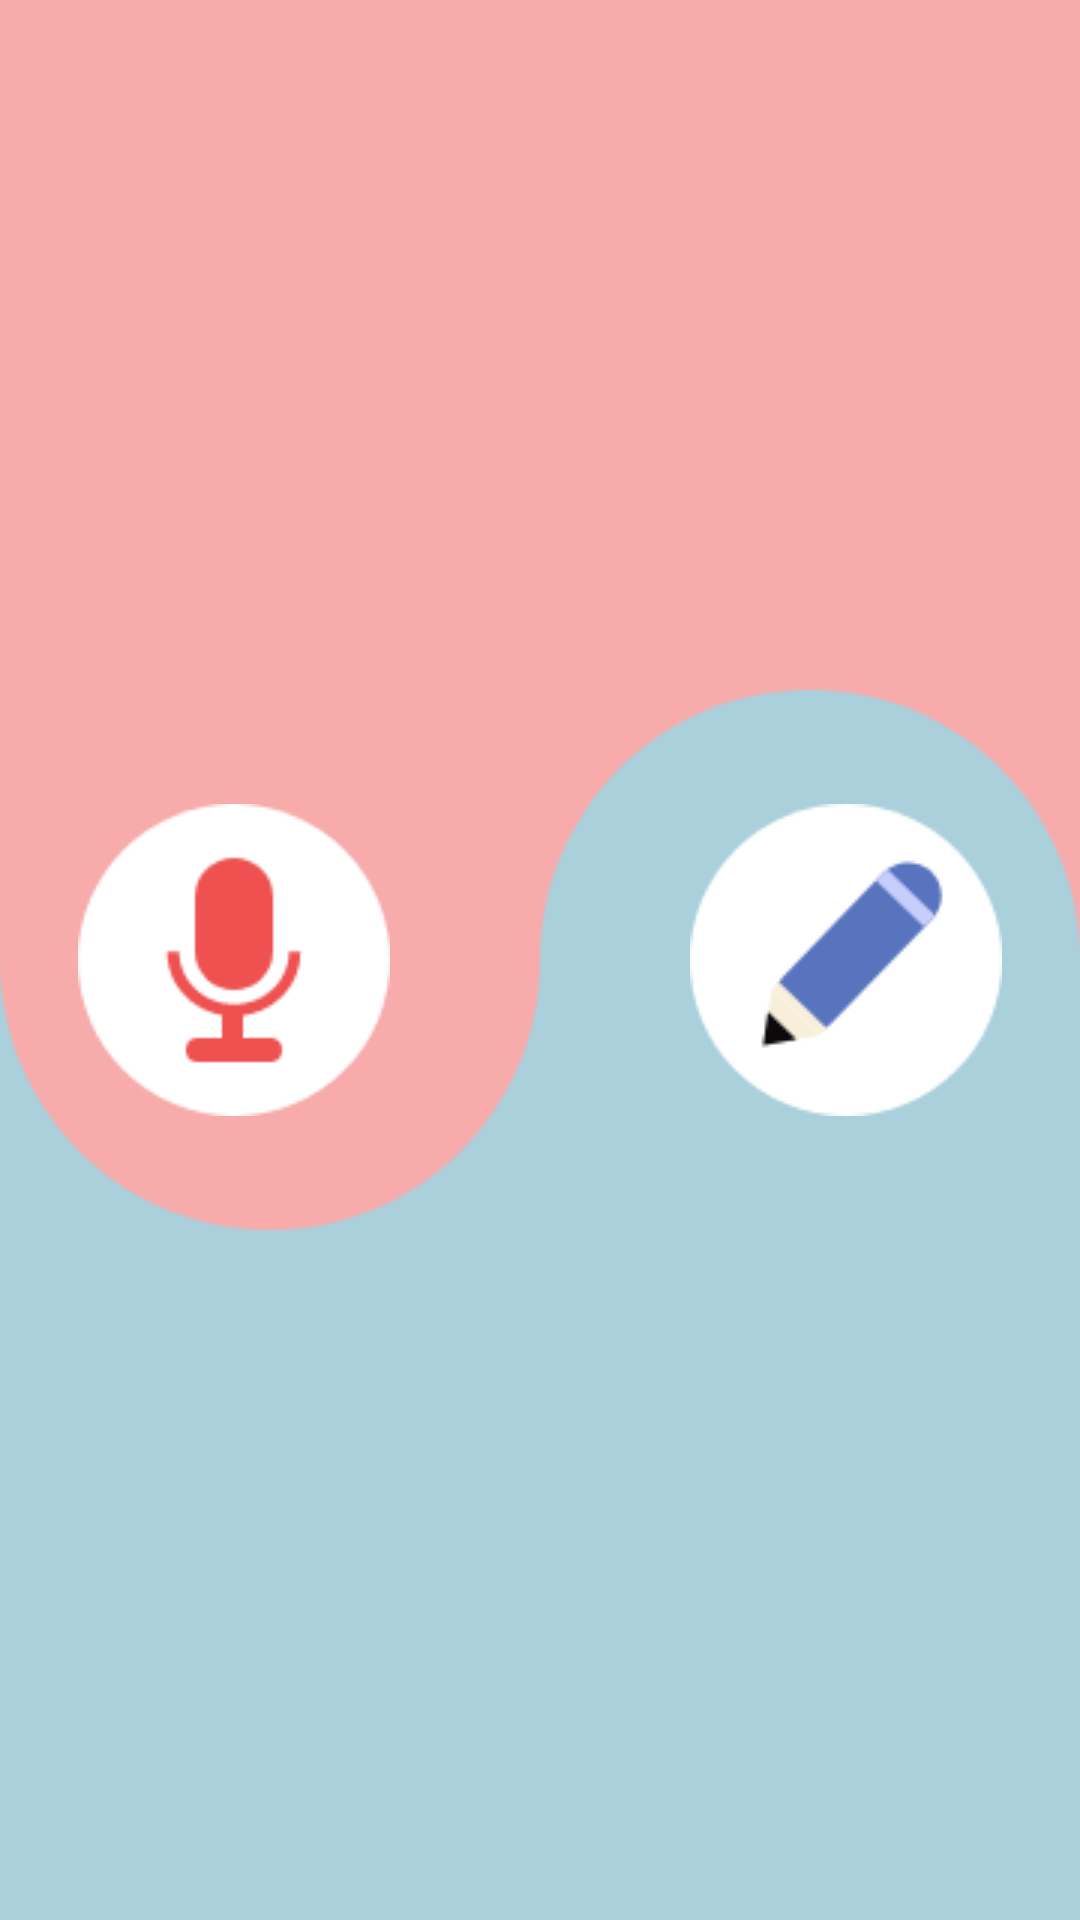

Point at icon controls on the screen. Image size 1080 x 1920, points as [x,y].
mic: [234,960]
pen: [846,960]
